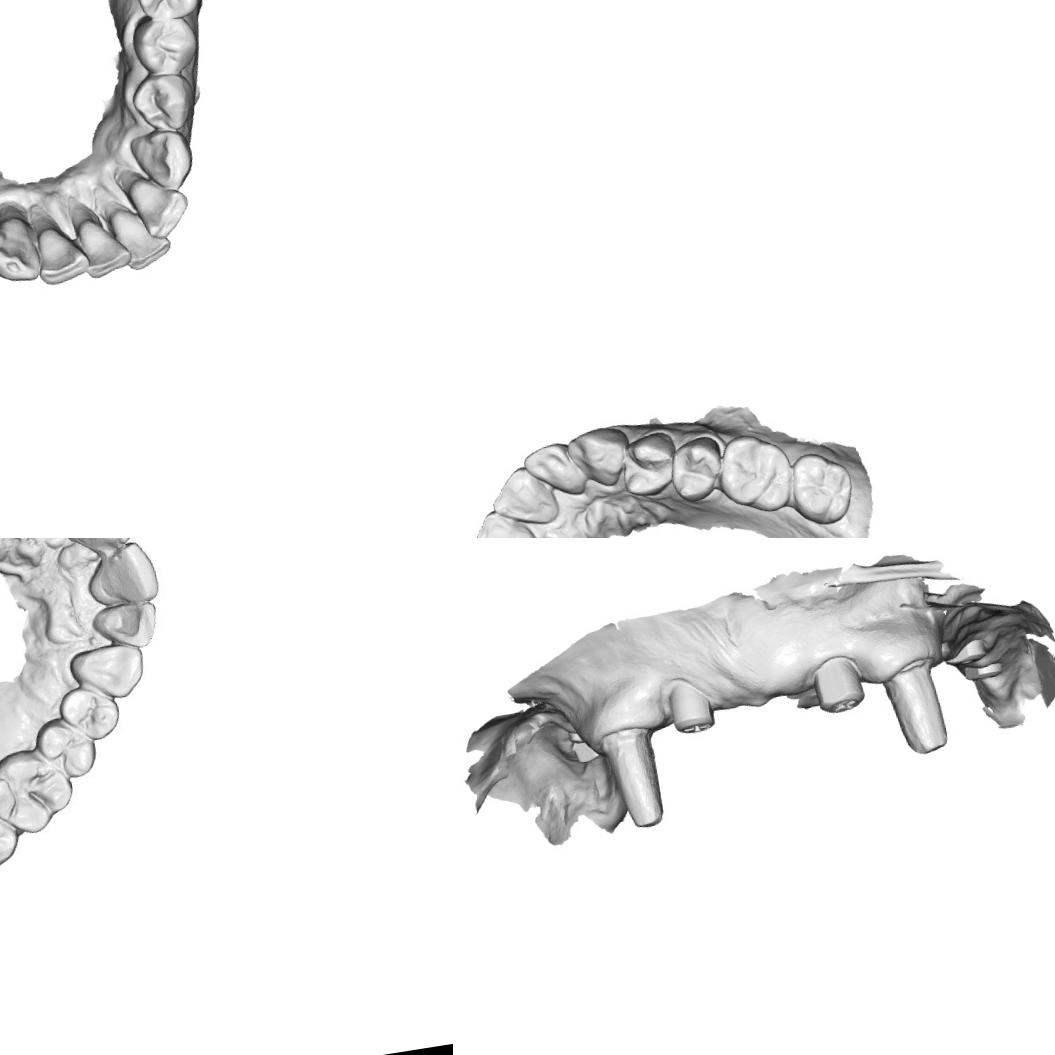canine: (62, 635, 150, 707), (126, 126, 199, 198), (562, 422, 632, 494), (0, 210, 45, 288)
crown: (592, 716, 674, 836), (878, 644, 953, 766)
implant: (944, 623, 986, 671), (958, 658, 1019, 688), (560, 720, 587, 748)
implant_plus: (788, 646, 878, 735), (660, 672, 730, 754)
incisor: (484, 460, 562, 534), (124, 171, 194, 245), (518, 435, 590, 505), (90, 541, 161, 610), (110, 200, 176, 274), (70, 214, 134, 282), (33, 224, 90, 288), (97, 597, 160, 650), (471, 505, 541, 538), (68, 538, 134, 557)
molar: (712, 426, 798, 520), (0, 740, 78, 841), (784, 435, 860, 529), (0, 791, 22, 886), (130, 0, 209, 26)
premolar: (128, 7, 202, 81), (615, 428, 684, 504), (663, 433, 729, 508), (128, 69, 200, 136), (33, 716, 100, 782), (55, 682, 121, 740)
